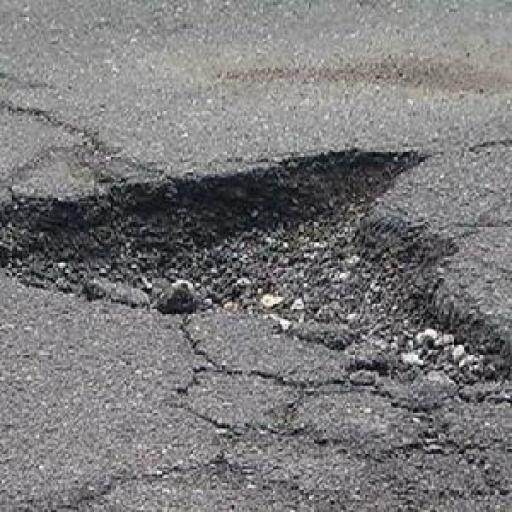pothole: (0, 143, 510, 407)
